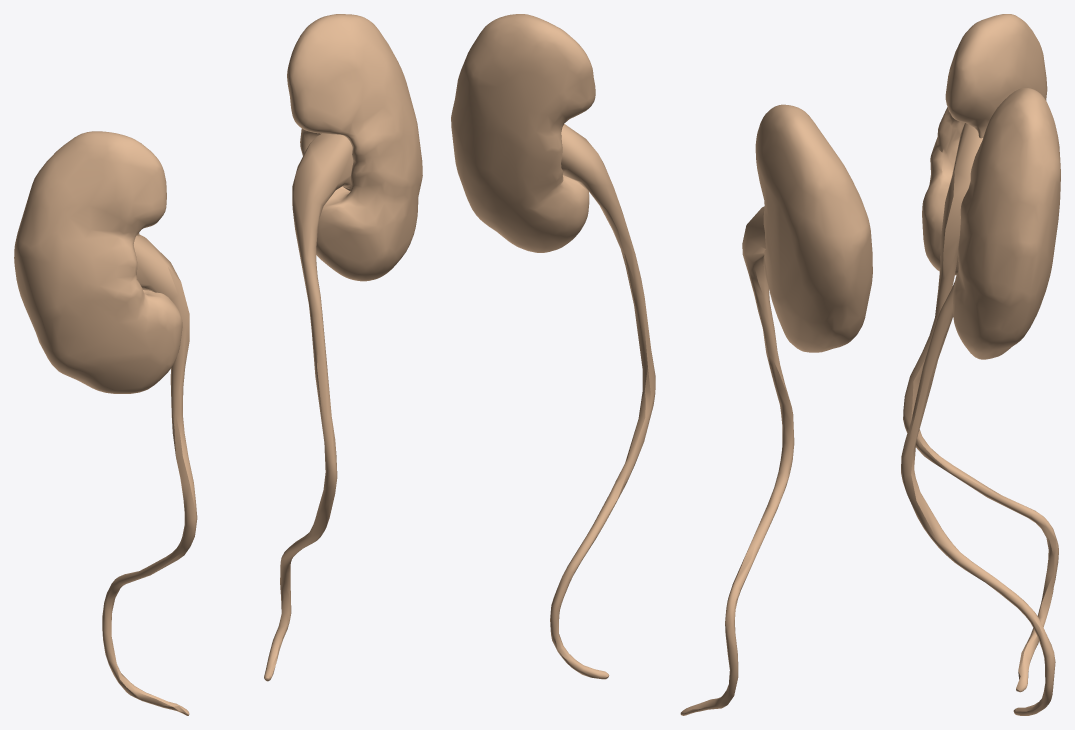
File: urinaire-abdomen.hi.glb
The picture shows the model from 3 angles, left to right: view 1: azimuth 30°, elevation 25°; view 2: azimuth 150°, elevation 25°; view 3: azimuth 270°, elevation 25°; orthographic projection. The views are drawn at different scales.
Parts seen in each view (by area): view 1: FJ3147, FJ3145, FJ3144, FJ3146; view 2: FJ3145, FJ3147, FJ3144, FJ3146; view 3: FJ3145, FJ3147, FJ3146, FJ3144.
Boxes of the visible parts, x1,y1,x2,y2 form: FJ3147: [14, 131, 182, 393]; FJ3145: [287, 14, 422, 281]; FJ3144: [264, 133, 353, 681]; FJ3146: [102, 235, 197, 715]; FJ3145: [451, 14, 595, 252]; FJ3147: [755, 104, 872, 352]; FJ3144: [550, 124, 655, 679]; FJ3146: [680, 206, 794, 715]; FJ3145: [953, 88, 1060, 359]; FJ3147: [922, 14, 1047, 275]; FJ3146: [903, 123, 1058, 692]; FJ3144: [901, 282, 1055, 715].
Size of the model in its own units: 0.178 by 0.2792 by 0.0602.
